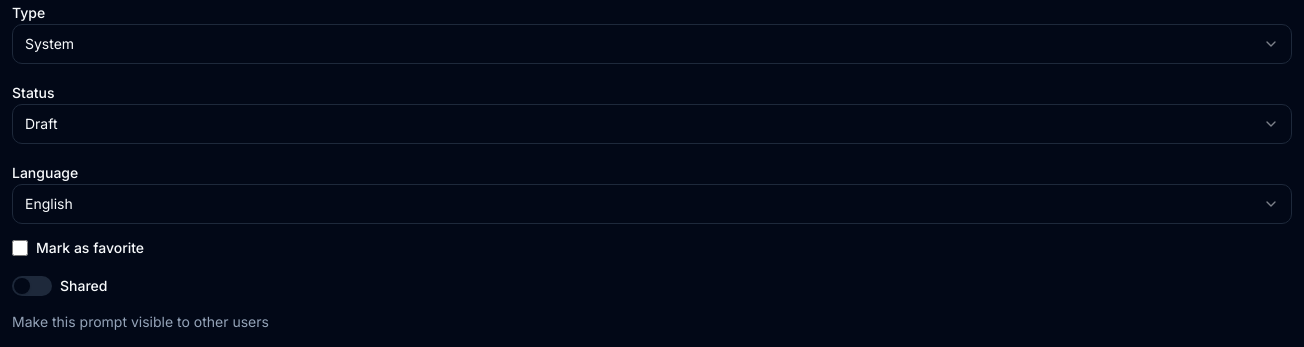
Test case: MetadataSegment › offers the fixed SYSTEM/USER/TOOL options in the type dropdown without a catalog
The width and height of the screenshot is (1304, 347).
Act — open the Radix Select for type
Step 1. Click the dropdown named "Type: " → (50, 44), box [12,24,1292,64]
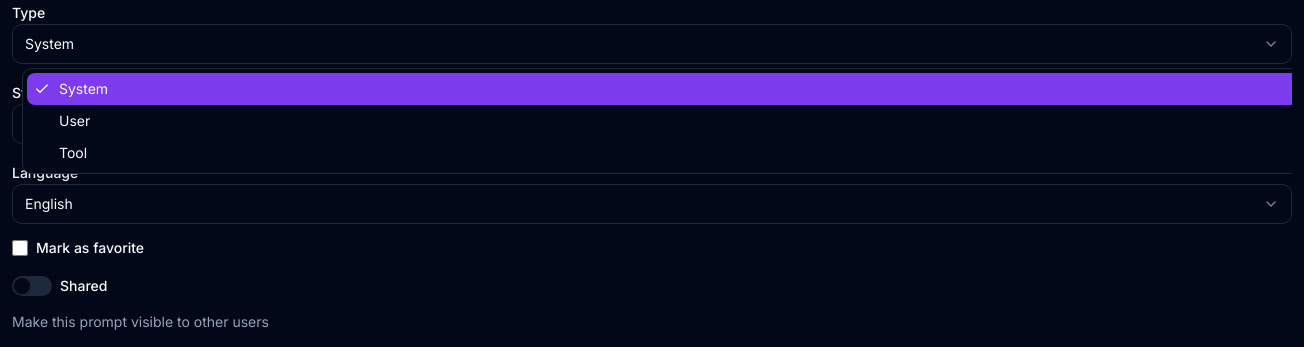
Check: the option "User" is shown, box [59,112,90,129]
Check: the option "Tool" is shown, box [59,144,87,161]
